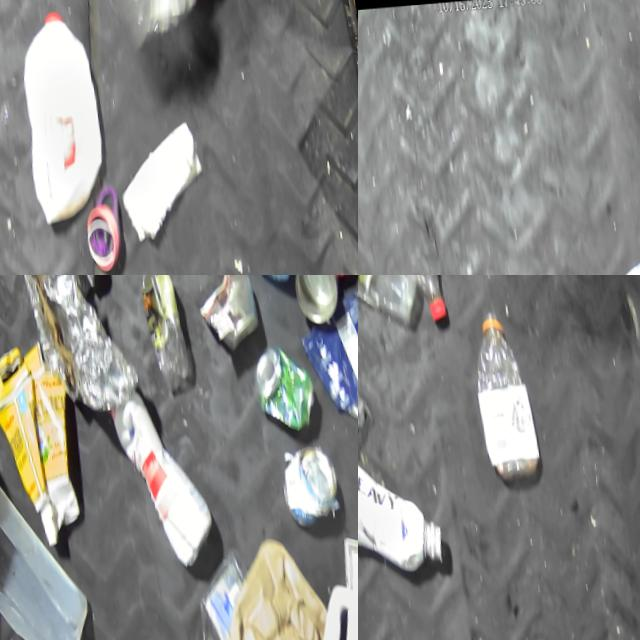can: (248, 343, 318, 436), (195, 275, 255, 343), (290, 275, 339, 314)
milk_jug: (5, 8, 110, 228)
plastic_bottle: (463, 310, 538, 487), (129, 275, 186, 382), (373, 275, 455, 332)
